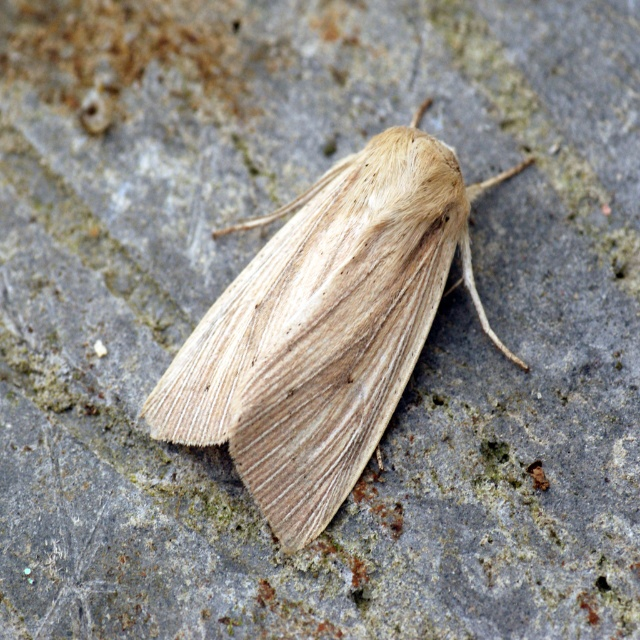Moths and butterflies: (137, 96, 537, 553)
